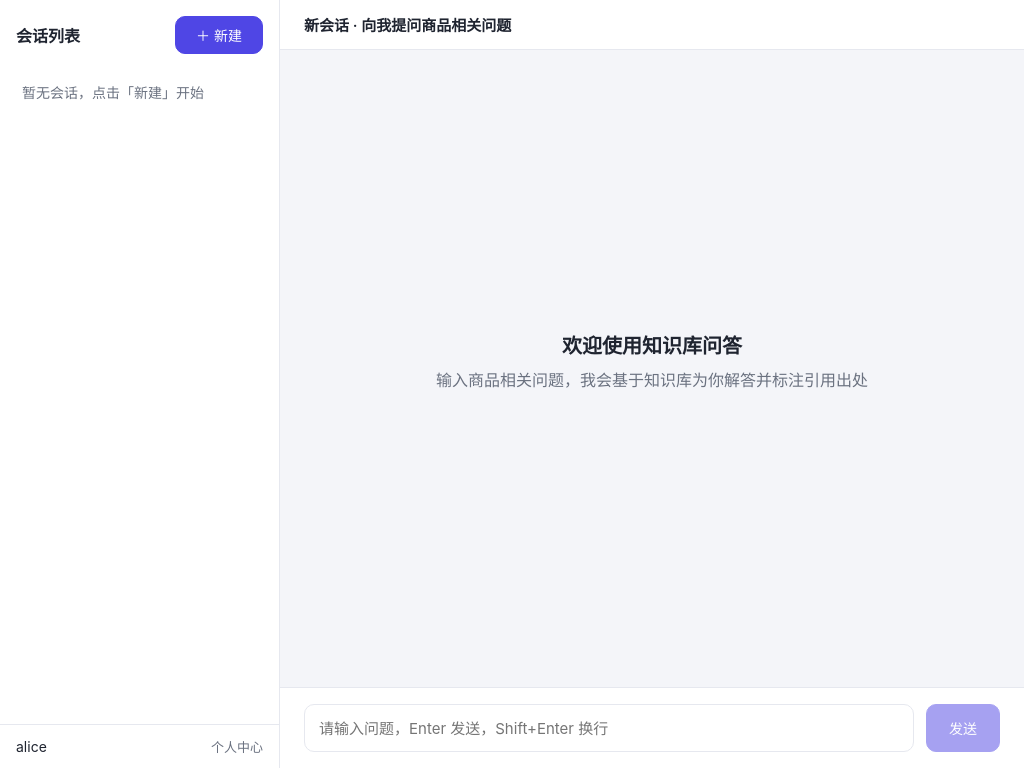
Test case: ChatPage 流式问答 › 发送问题后流式拼接回答并展示引用
The image size is (1024, 768).
expect the heading "欢迎使用知识库问答" is shown: met, box x1=562 y1=330 x2=742 y2=359
Type "耳机续航多久？" into the text box at {"x": 609, "y": 728}, box x1=304 y1=704 x2=914 y2=752
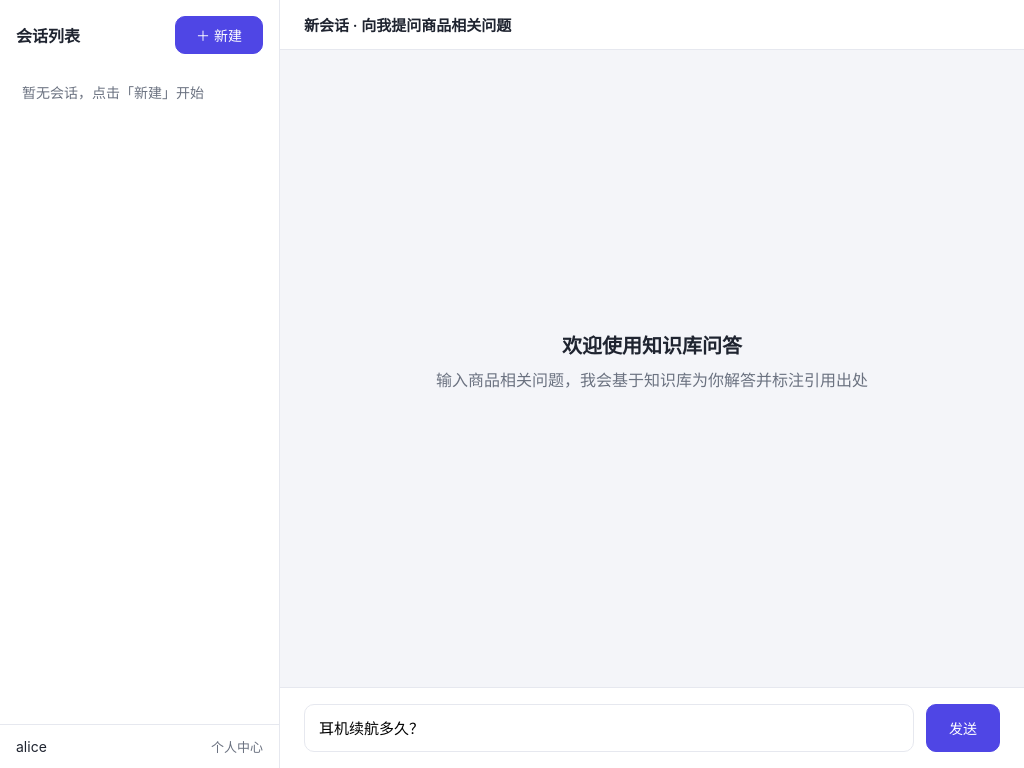
Click the button "发送" at {"x": 963, "y": 728}, box x1=926 y1=704 x2=1000 y2=752
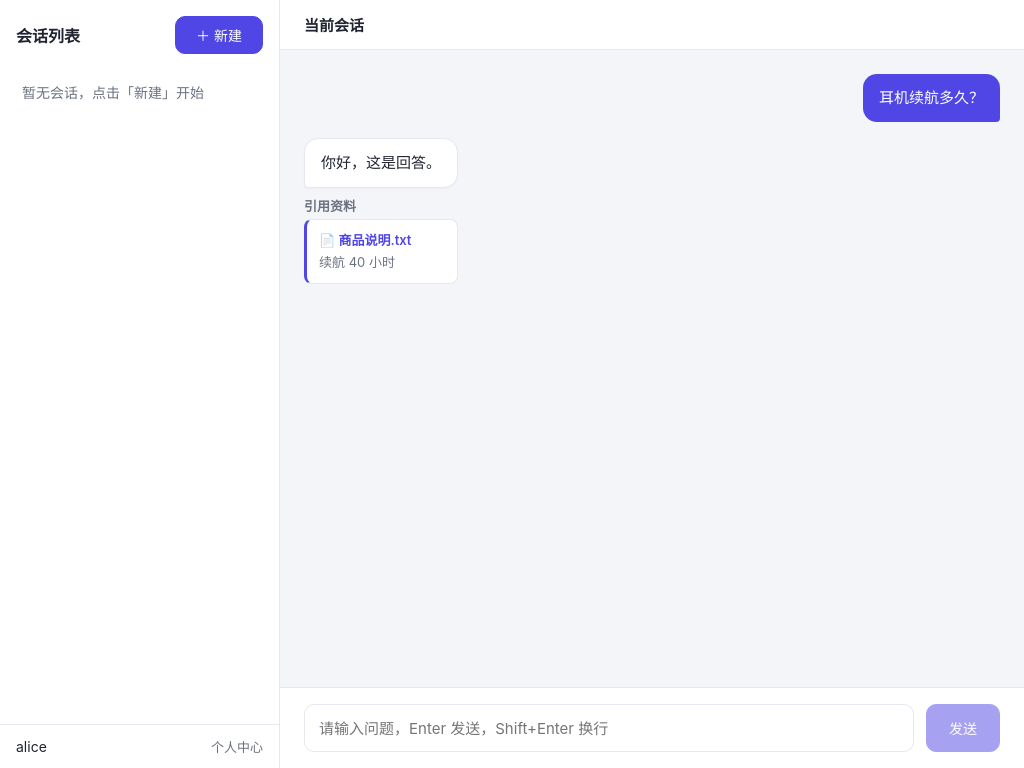
expect the text "你好，这是回答。" is shown: met, box x1=321 y1=151 x2=441 y2=175
expect the text "📄 商品说明.txt" is shown: met, box x1=319 y1=230 x2=411 y2=249
expect the text "耳机续航多久？" is shown: met, box x1=863 y1=74 x2=1000 y2=122
